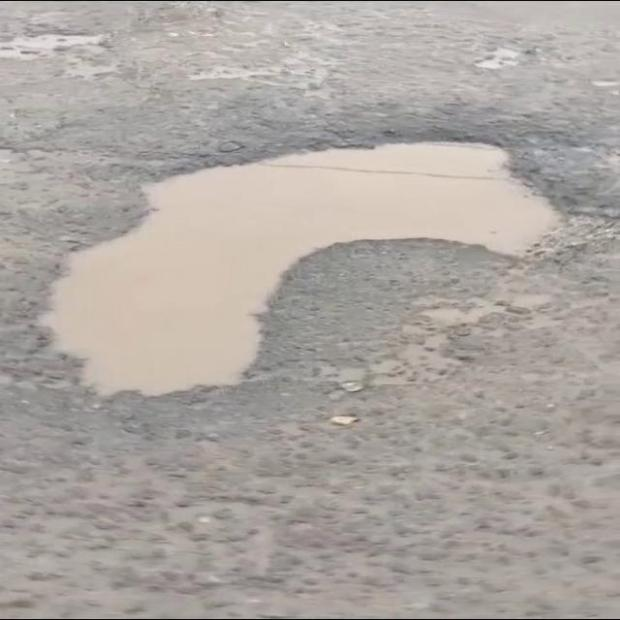lubang: (0, 143, 560, 395), (191, 50, 340, 107), (0, 36, 120, 79), (474, 46, 536, 70)
